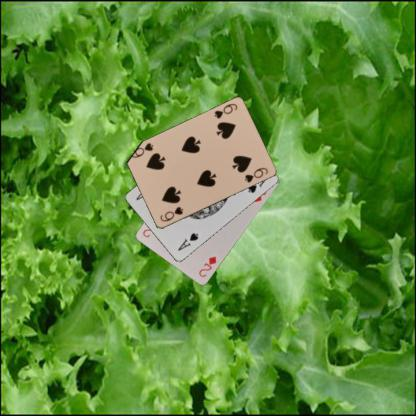2d: (196, 254, 218, 278)
6s: (157, 204, 184, 223), (211, 101, 238, 120)
As: (175, 230, 199, 252)
